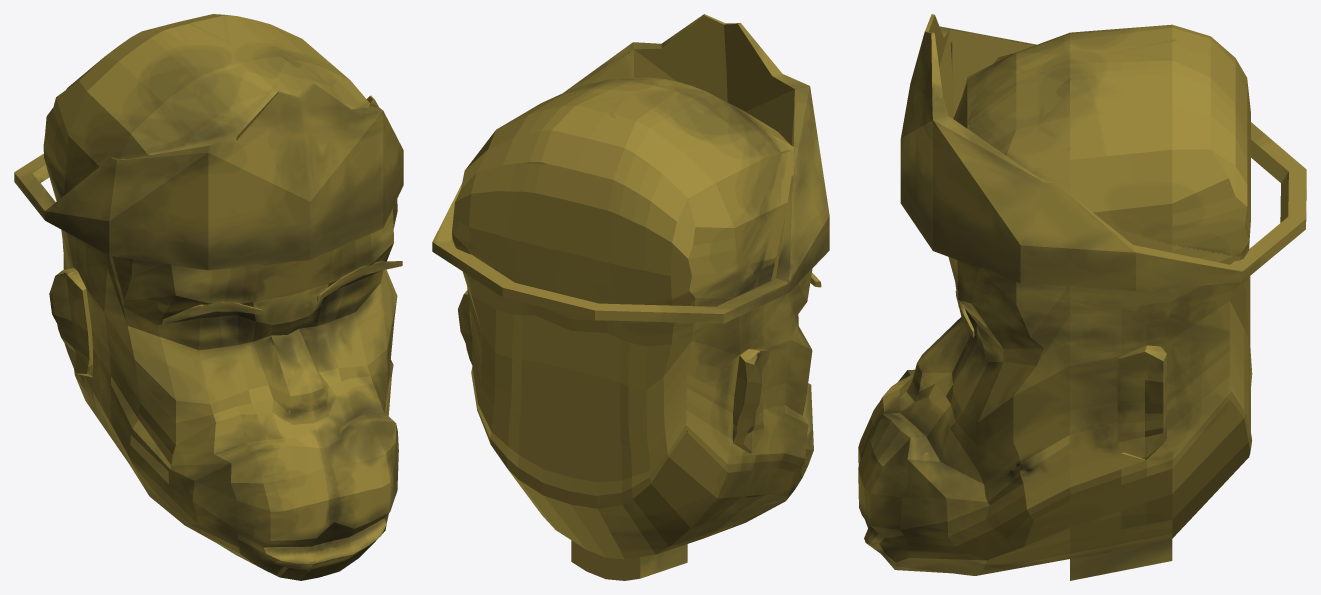
The model's file is f_head_5.fbx.
3 views of the same model, side by side, from view 1: azimuth 30°, elevation 25°; view 2: azimuth 150°, elevation 25°; view 3: azimuth 270°, elevation 25° (orthographic). The views are drawn at different scales.
Visible parts, largest first — view 1: Circle.001; view 2: Circle.001; view 3: Circle.001.
Boxes of the visible parts, x1,y1,x2,y2 form: Circle.001: (14,14,403,580); Circle.001: (432,14,829,580); Circle.001: (858,14,1306,580).
Size of the model in its own units: 95.62 by 140 by 105.
1 material, 1 textured.
